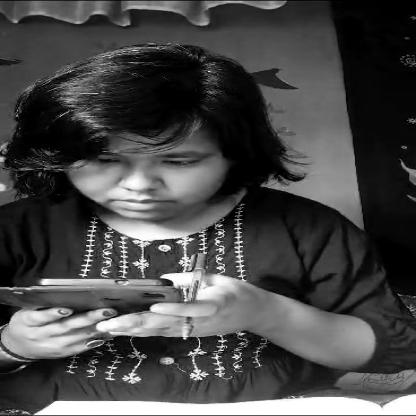Normal: (45, 114, 238, 224)
